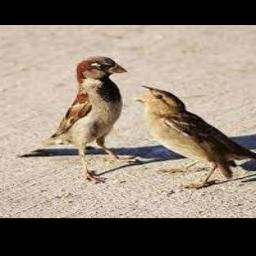Sparrow: (22, 56, 138, 184), (136, 85, 256, 190)
